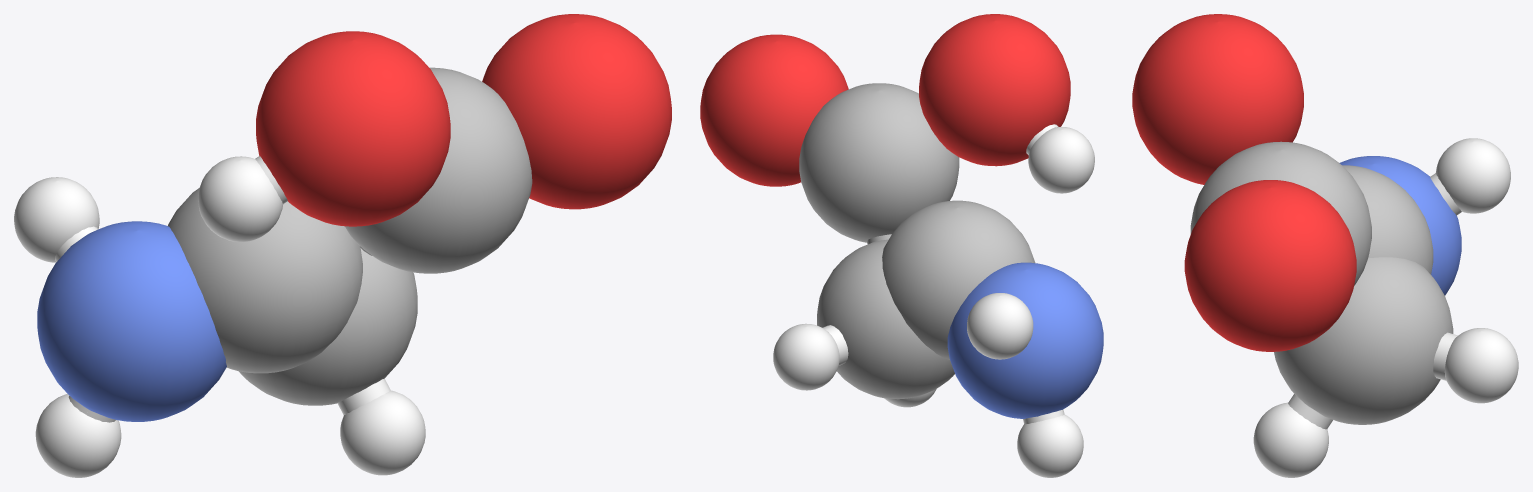
The model's file is glycine.glb.
The picture shows the model from 3 angles, left to right: view 1: azimuth 30°, elevation 25°; view 2: azimuth 150°, elevation 25°; view 3: azimuth 270°, elevation 25°; orthographic projection. The views are drawn at different scales.
Visible parts, largest first — view 1: Oxygen_ball (×3), Carbon_ball (×3), Nitrogen_ball, Hydrogen_ball (×4); view 2: Carbon_ball (×3), Oxygen_ball (×2), Nitrogen_ball, Hydrogen_ball (×4); view 3: Oxygen_ball (×3), Carbon_ball (×3), Hydrogen_ball (×3), Nitrogen_ball.
Part boxes in pixels (x1=…): Oxygen_ball (×3): x1=256, y1=14, x2=671, y2=226; Carbon_ball (×3): x1=168, y1=67, x2=532, y2=405; Nitrogen_ball: x1=37, y1=221, x2=226, y2=421; Hydrogen_ball (×4): x1=14, y1=156, x2=425, y2=477; Carbon_ball (×3): x1=799, y1=83, x2=1035, y2=399; Oxygen_ball (×2): x1=700, y1=14, x2=1070, y2=186; Nitrogen_ball: x1=947, y1=262, x2=1103, y2=418; Hydrogen_ball (×4): x1=773, y1=127, x2=1094, y2=477; Oxygen_ball (×3): x1=1132, y1=14, x2=1356, y2=351; Carbon_ball (×3): x1=1190, y1=141, x2=1453, y2=424; Hydrogen_ball (×3): x1=1253, y1=138, x2=1518, y2=477; Nitrogen_ball: x1=1339, y1=156, x2=1461, y2=295.
Size of the model in its own units: 4.74 by 3.94 by 3.27.
